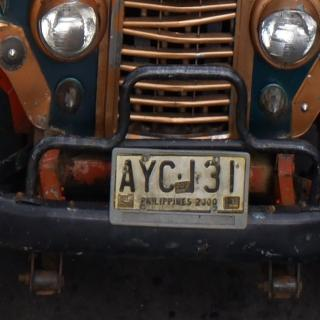license: (110, 149, 250, 230)
